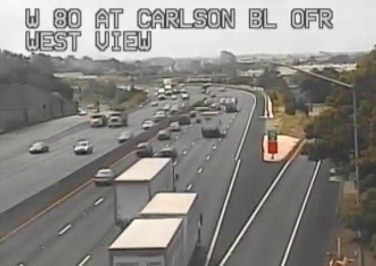car: (94, 169, 114, 184), (160, 146, 177, 159), (136, 143, 151, 156)
small-truck: (201, 111, 220, 136)
truck: (109, 191, 201, 266), (113, 157, 174, 225)
